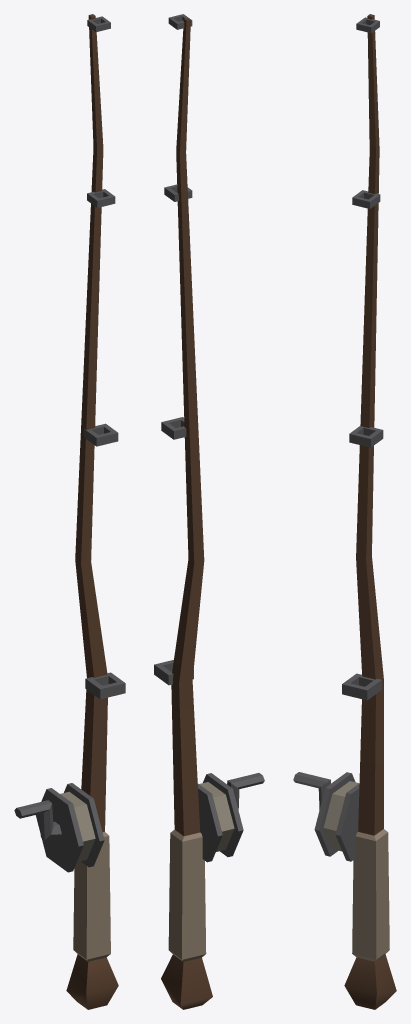
Rendered from SM_Prop_FishingRod_01.glb.
3 renders of one model, left to right at view 1: azimuth 30°, elevation 25°; view 2: azimuth 210°, elevation 25°; view 3: azimuth 330°, elevation 25°, orthographic.
Parts seen in each view (by area): view 1: SM_Prop_FishingRod_01; view 2: SM_Prop_FishingRod_01; view 3: SM_Prop_FishingRod_01.
Boxes of the visible parts, left/top/right/bottom form: SM_Prop_FishingRod_01: left=14, top=14, right=125, bottom=1009; SM_Prop_FishingRod_01: left=154, top=14, right=264, bottom=1009; SM_Prop_FishingRod_01: left=293, top=14, right=396, bottom=1009.
Size of the model in its own units: 0.00224 by 0.0235 by 0.00185.
